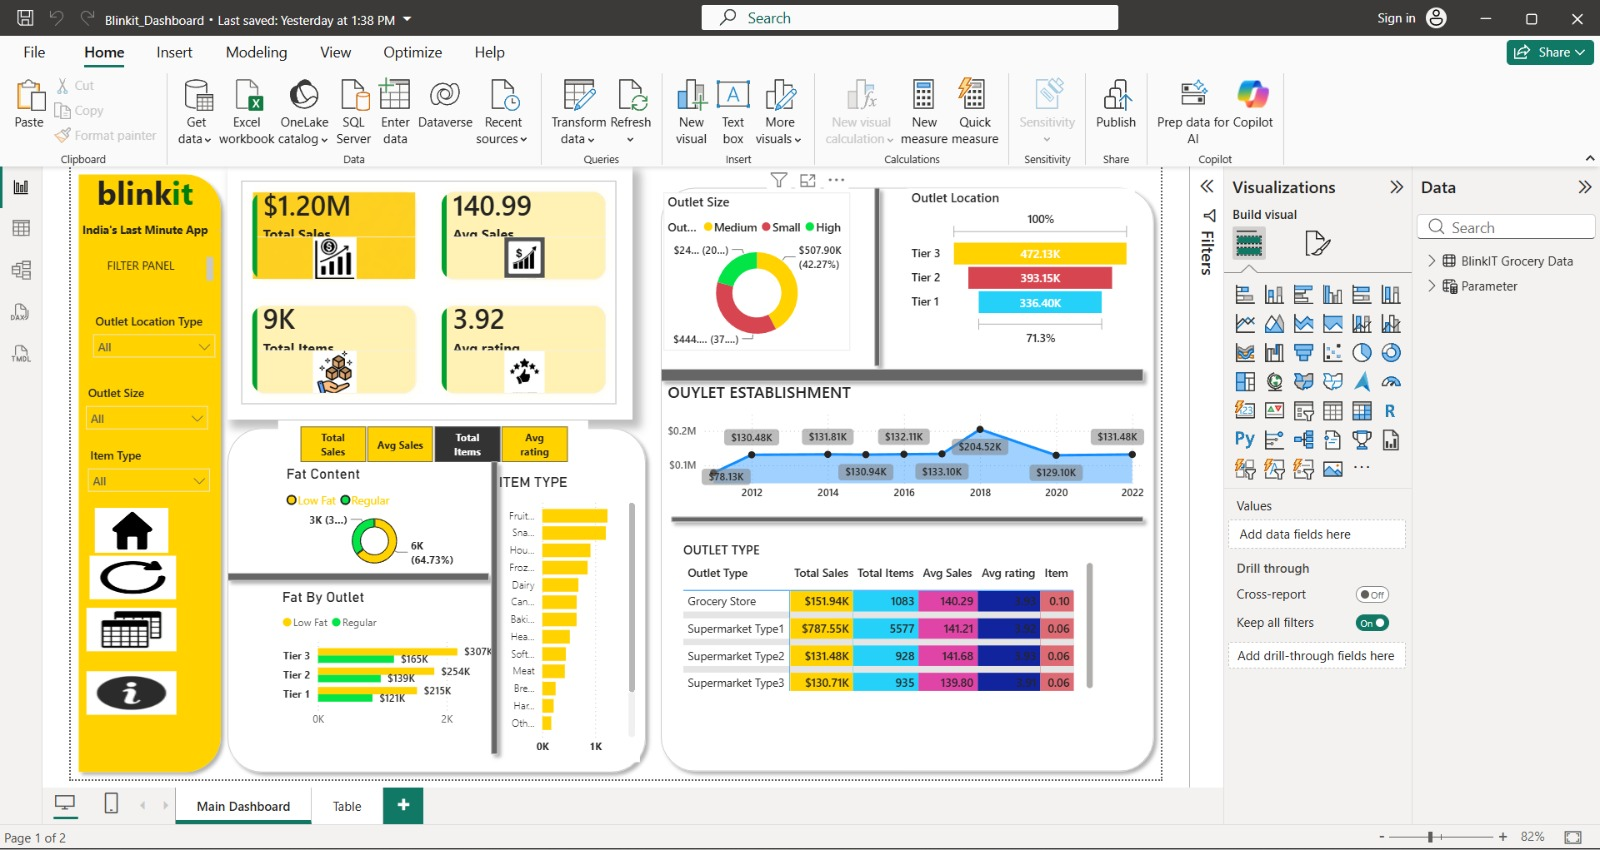

What the dashboard file says about the page in this screenshot:
{"tool":"powerbi","page":{"name":"Main Dashboard","canvas":[1280,720],"ordinal":0},"visuals":[{"type":"shape","box":[0,0,185,720.7],"z":0,"group":"g1"},{"type":"textbox","box":[0,0,174.3,60.4],"z":1000,"group":"g1"},{"type":"textbox","box":[0,60.4,174.3,41.2],"z":2000,"group":"g1"},{"type":"cardVisual","fields":{"Data":["BlinkIT Grocery Data.Total Sales","BlinkIT Grocery Data.Avg Sales","BlinkIT Grocery Data.Total Items","BlinkIT Grocery Data.Avg rating"]},"box":[183.7,0,484.2,297.7],"z":3000,"group":"g1"},{"type":"shape","box":[174.3,297.8,509.1,422.6],"z":4000,"group":"g1"},{"type":"slicer","fields":{"Values":["Parameter.Parameter"]},"box":[242.9,297.8,363.6,53.5],"z":5000,"group":"g1"},{"type":"donutChart","title":"Fat Content","fields":{"Y":["BlinkIT Grocery Data.Total Items"],"Category":["BlinkIT Grocery Data.Item Fat Content"]},"box":[248.4,351.3,216.8,127.6],"z":6000,"group":"g1"},{"type":"clusteredBarChart","title":"Fat By Outlet","fields":{"Y":["BlinkIT Grocery Data.Total Items"],"Category":["BlinkIT Grocery Data.Outlet Location Type"],"Series":["BlinkIT Grocery Data.Item Fat Content"]},"box":[242.9,495.4,285.4,172.9],"z":7000,"group":"g1"},{"type":"barChart","title":"ITEM TYPE","fields":{"Y":["BlinkIT Grocery Data.Total Items"],"Category":["BlinkIT Grocery Data.Item Type"]},"box":[498.1,360.9,170.2,338.9],"z":8000,"group":"g1"},{"type":"shape","box":[1195.2,16.5,17.8,197.6],"z":9000,"group":"g1"},{"type":"shape","box":[174.3,467.9,325.2,27.4],"z":10000,"group":"g1"},{"type":"shape","box":[484.4,337.6,26.1,362.3],"z":11000,"group":"g1"},{"type":"shape","box":[757.5,643.6,314.2,24.7],"z":12000,"group":"g1"},{"type":"shape","box":[683.4,16.5,596.9,703.9],"z":13000,"group":"g1"},{"type":"donutChart","title":" Outlet Size","fields":{"Category":["BlinkIT Grocery Data.Outlet Size"],"Y":["BlinkIT Grocery Data.Total Sales"]},"box":[695.7,30.2,219.6,186.6],"z":14000,"group":"g1"},{"type":"funnel","title":" Outlet Location","fields":{"Category":["BlinkIT Grocery Data.Outlet Location Type"],"Y":["Sum(BlinkIT Grocery Data.Sales)"]},"box":[982.5,26.1,267.6,190.7],"z":15000,"group":"g1"},{"type":"lineChart","title":"OUYLET ESTABLISHMENT","fields":{"Category":["BlinkIT Grocery Data.Outlet Establishment Year"],"Y":["BlinkIT Grocery Data.Total Sales"]},"box":[695.7,252.5,569.5,149.6],"z":16000,"group":"g1"},{"type":"pivotTable","title":"OUTLET TYPE","fields":{"Rows":["BlinkIT Grocery Data.Outlet Type"],"Values":["BlinkIT Grocery Data.Total Sales","BlinkIT Grocery Data.Total Items","BlinkIT Grocery Data.Avg Sales","BlinkIT Grocery Data.Avg rating","Avg(BlinkIT Grocery Data.Item Visibility)"]},"box":[713.6,440.5,491.3,181.1],"z":17000,"group":"g1"},{"type":"shape","box":[934.5,16.5,24.7,227.8],"z":18000,"group":"g1"},{"type":"shape","box":[683.4,229.2,584.6,32.9],"z":19000,"group":"g1"},{"type":"shape","box":[695.7,402.1,572.2,24.7],"z":20000,"group":"g1"},{"type":"slicer","fields":{"Values":["BlinkIT Grocery Data.Outlet Location Type"]},"box":[16.5,167.4,163.3,76.8],"z":21000,"group":"g1"},{"type":"slicer","fields":{"Values":["BlinkIT Grocery Data.Outlet Size"]},"box":[6.9,252.5,163.3,76.8],"z":22000,"group":"g1"},{"type":"slicer","fields":{"Values":["BlinkIT Grocery Data.Item Type"]},"box":[9.6,325.2,163.3,76.8],"z":23000,"group":"g1"},{"type":"textbox","box":[9.6,70,174.3,11],"z":24000,"group":"g1"},{"type":"textbox","box":[0,101.5,172,41],"z":25000,"group":"g1"},{"type":"actionButton","box":[27.8,400.7,86.3,52.9],"z":26000,"group":"g1"},{"type":"actionButton","box":[22.3,457.7,101.6,51.5],"z":27000,"group":"g1"},{"type":"actionButton","box":[18.1,519,105.7,51.5],"z":28000,"group":"g1"},{"type":"actionButton","box":[18.1,592.7,105.7,51.5],"z":29000,"group":"g1"},{"type":"group","id":"g1","title":"Group 1","box":[0,0,1280.3,720.7],"z":29001}]}

Visuals, with their boxes on the page's 1280x720 design canvas (x1, y1, x2, y2). These are canvas units, not pixel positions in the 1600x850 screenshot, which may show the page scaled, cropped or inside an application window:
shape: select_region(0, 0, 185, 721)
textbox: select_region(0, 0, 174, 60)
textbox: select_region(0, 60, 174, 102)
cardVisual - BlinkIT Grocery Data.Total Sales x BlinkIT Grocery Data.Avg Sales: select_region(184, 0, 668, 298)
shape: select_region(174, 298, 683, 720)
slicer - Parameter.Parameter: select_region(243, 298, 606, 351)
"Fat Content" donutChart: select_region(248, 351, 465, 479)
"Fat By Outlet" clusteredBarChart: select_region(243, 495, 528, 668)
"ITEM TYPE" barChart: select_region(498, 361, 668, 700)
shape: select_region(1195, 16, 1213, 214)
shape: select_region(174, 468, 500, 495)
shape: select_region(484, 338, 510, 700)
shape: select_region(758, 644, 1072, 668)
shape: select_region(683, 16, 1280, 720)
" Outlet Size" donutChart: select_region(696, 30, 915, 217)
" Outlet Location" funnel: select_region(982, 26, 1250, 217)
"OUYLET ESTABLISHMENT" lineChart: select_region(696, 252, 1265, 402)
"OUTLET TYPE" pivotTable: select_region(714, 440, 1205, 622)
shape: select_region(934, 16, 959, 244)
shape: select_region(683, 229, 1268, 262)
shape: select_region(696, 402, 1268, 427)
slicer - BlinkIT Grocery Data.Outlet Location Type: select_region(16, 167, 180, 244)
slicer - BlinkIT Grocery Data.Outlet Size: select_region(7, 252, 170, 329)
slicer - BlinkIT Grocery Data.Item Type: select_region(10, 325, 173, 402)
textbox: select_region(10, 70, 184, 81)
textbox: select_region(0, 102, 172, 142)
actionButton: select_region(28, 401, 114, 454)
actionButton: select_region(22, 458, 124, 509)
actionButton: select_region(18, 519, 124, 570)
actionButton: select_region(18, 593, 124, 644)
"Group 1" group: select_region(0, 0, 1280, 721)
